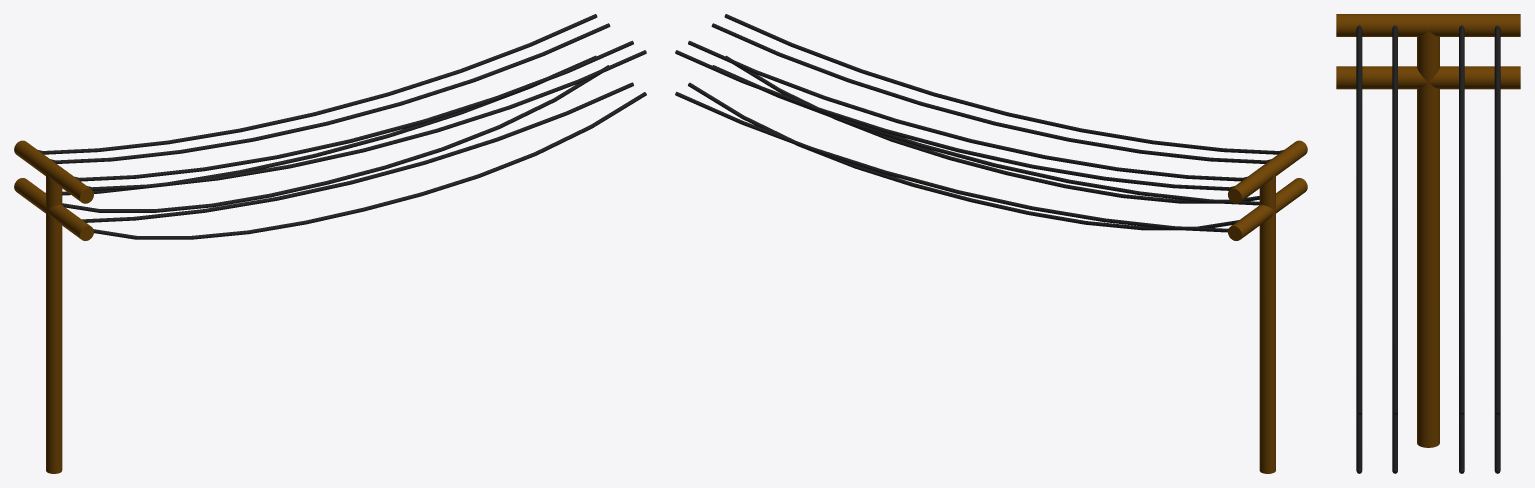
Rendered from MOD_PowerLine_Straight.fbx.
3 views of the same model, side by side, from view 1: azimuth 30°, elevation 25°; view 2: azimuth 150°, elevation 25°; view 3: azimuth 270°, elevation 25° (orthographic). The views are drawn at different scales.
Parts seen in each view (by area): view 1: PowerLine_Straight; view 2: PowerLine_Straight; view 3: PowerLine_Straight.
Part boxes in pixels (x1=…): PowerLine_Straight: x1=14, y1=14, x2=646, y2=473; PowerLine_Straight: x1=675, y1=14, x2=1307, y2=473; PowerLine_Straight: x1=1336, y1=14, x2=1520, y2=473.
Size of the model in its own units: 806 by 410 by 160.
